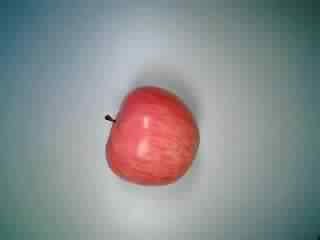apple: (100, 86, 205, 188)
